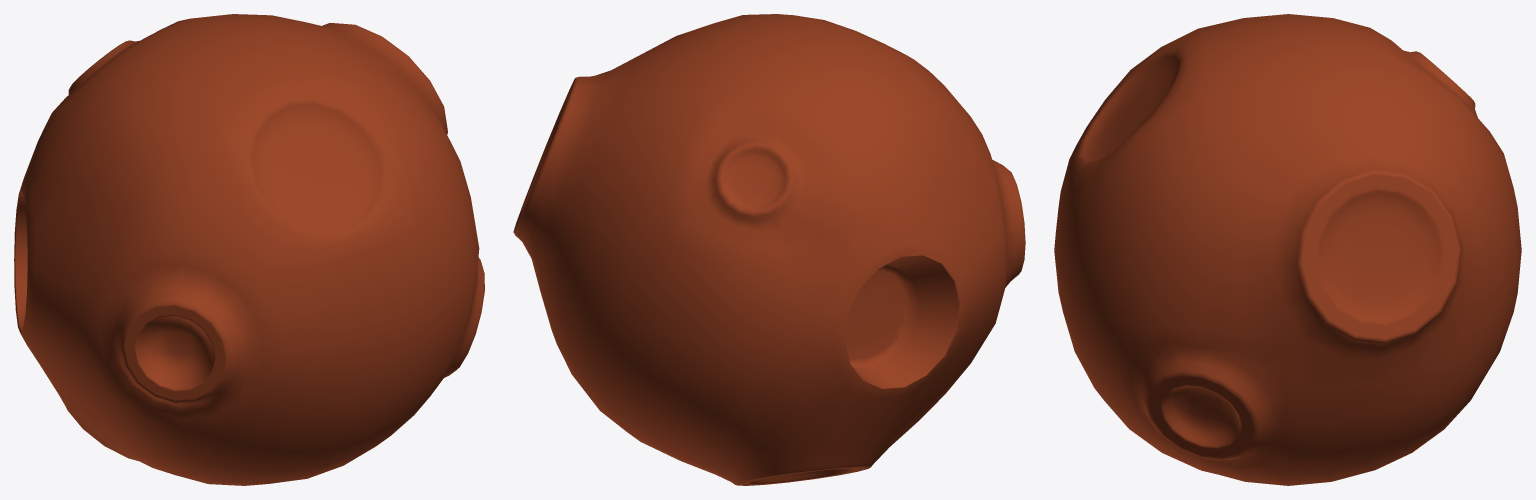
The model's file is Asteroid3.fbx.
3 renders of one model, left to right at view 1: azimuth 30°, elevation 25°; view 2: azimuth 150°, elevation 25°; view 3: azimuth 270°, elevation 25°, orthographic.
Parts seen in each view (by area): view 1: pCube3; view 2: pCube3; view 3: pCube3.
Boxes of the visible parts, box(x1,y1,x2,y2) form: pCube3: box(14, 14, 484, 485); pCube3: box(513, 14, 1025, 485); pCube3: box(1054, 14, 1521, 485).
Bounding box in the file's own units: 708 × 676 × 677.
